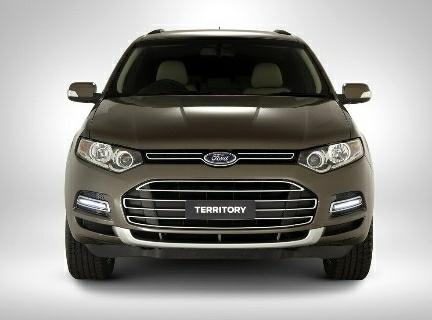car: (44, 20, 387, 287)
